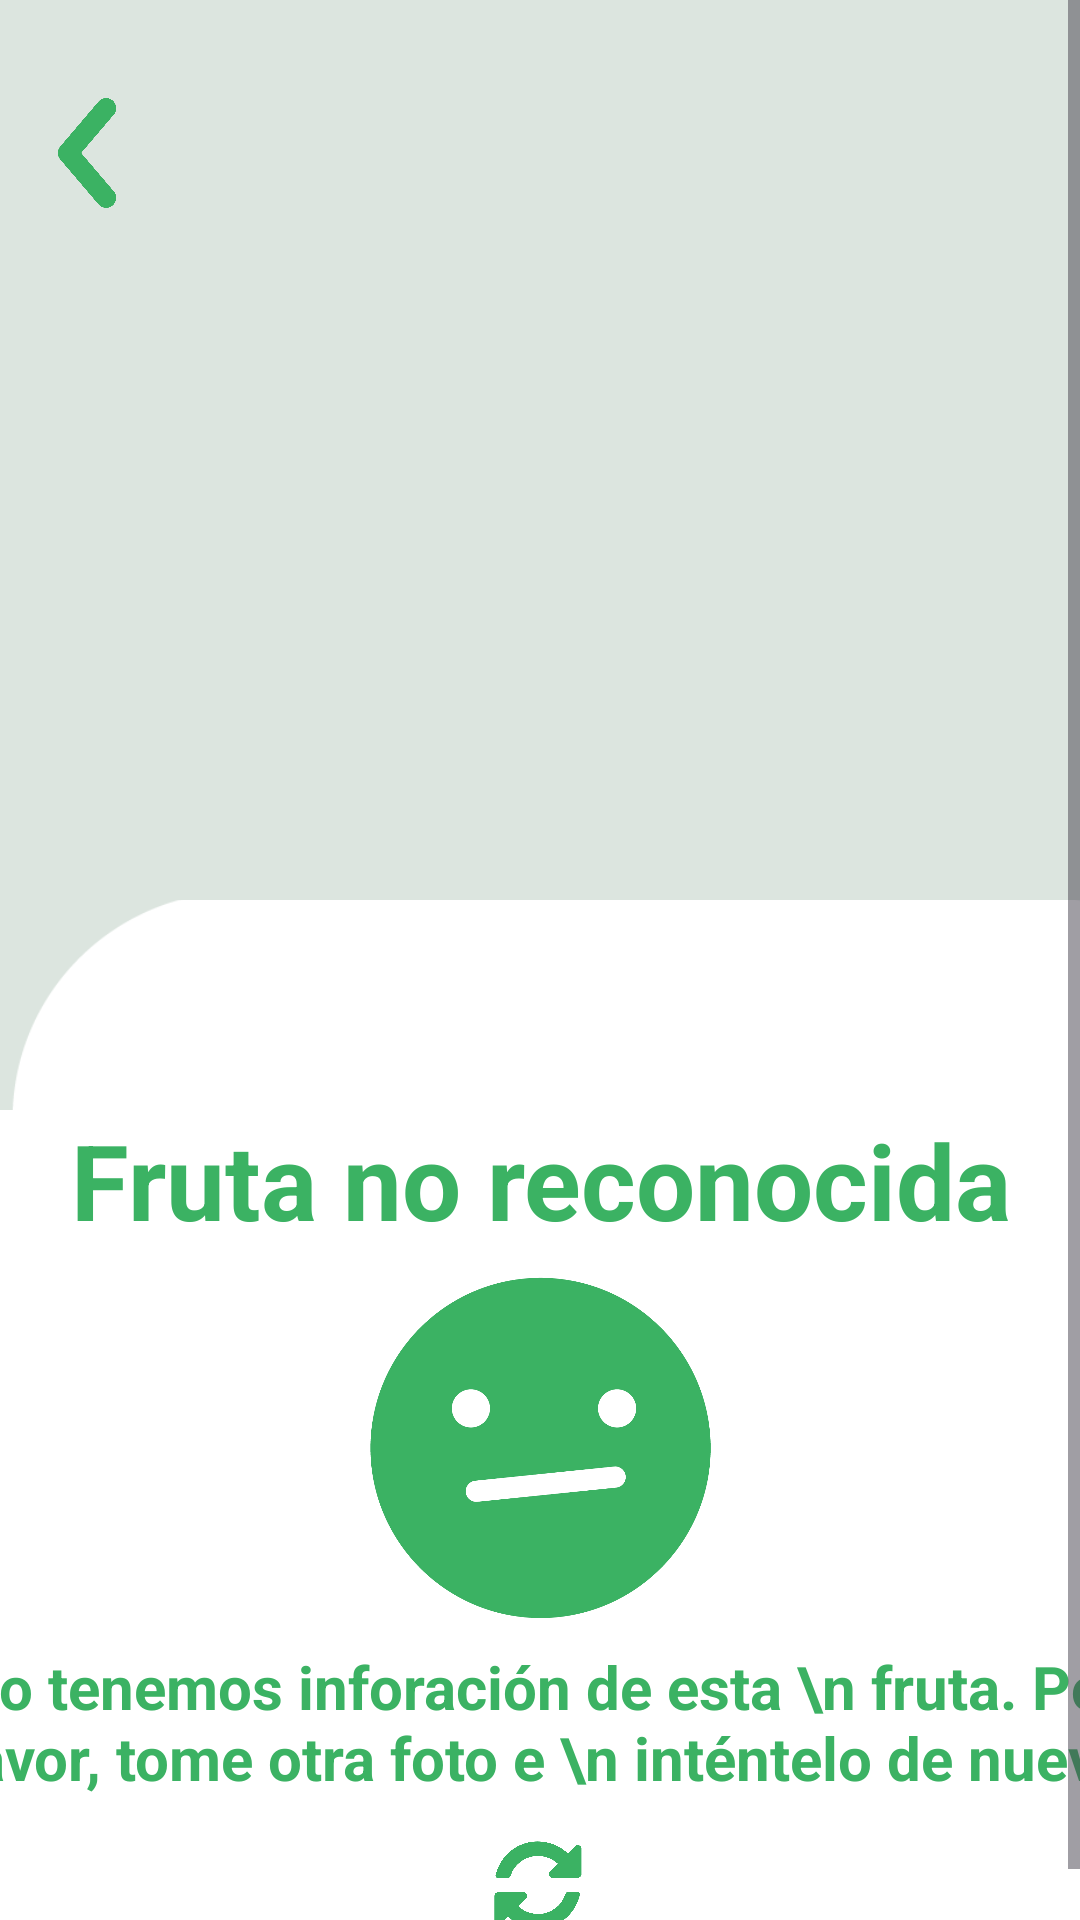

Icon click points for this 1080w x 1920h phone screenshot, format [x,y]:
mmm face: [540,1448]
Volver: [87,153]
